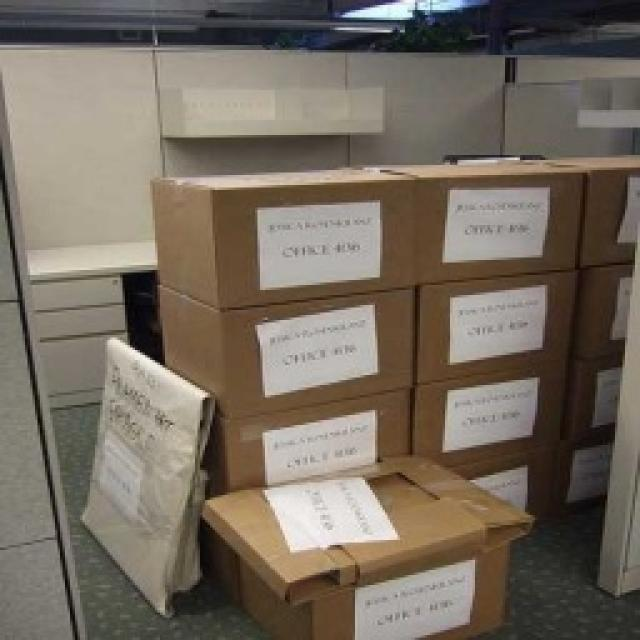box: (219, 450, 541, 640), (153, 172, 418, 292), (158, 288, 427, 401), (396, 161, 579, 276), (211, 380, 411, 476), (412, 279, 576, 369), (415, 374, 577, 454), (446, 458, 590, 526), (577, 157, 640, 264), (558, 439, 638, 518), (570, 356, 640, 442), (581, 262, 640, 358)
